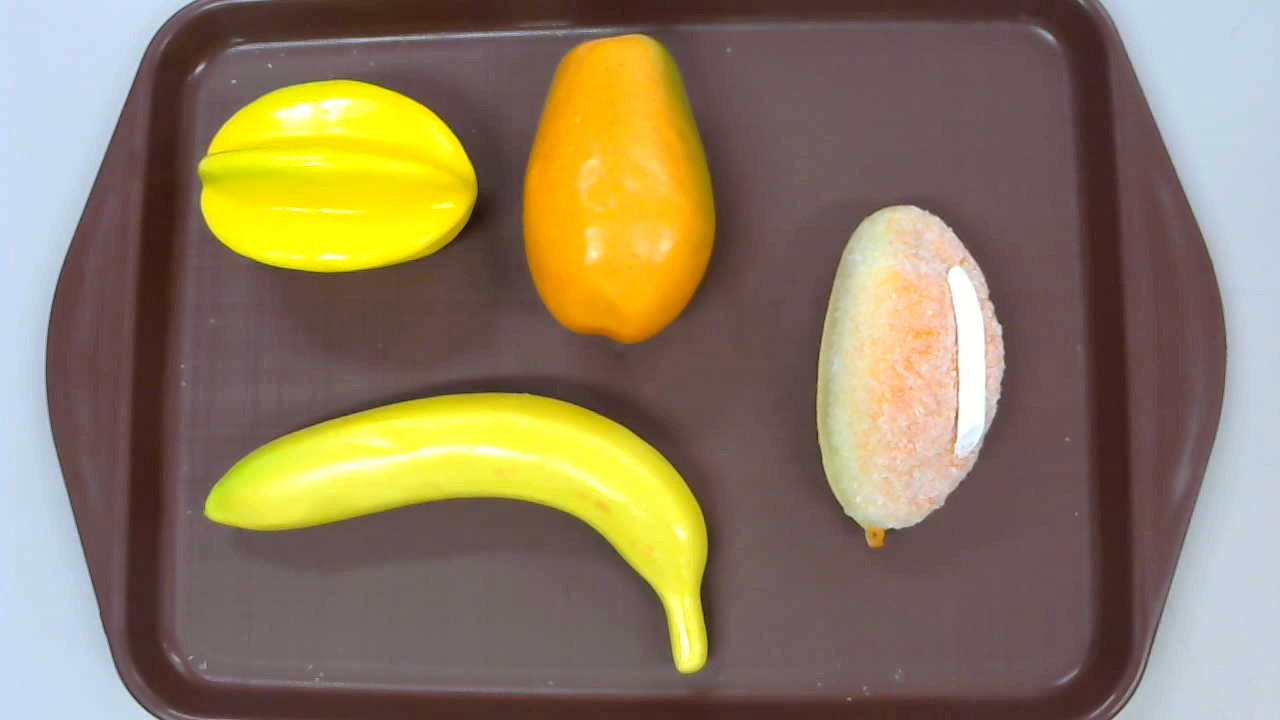banana: (203, 392, 708, 674)
coconut: (817, 203, 1003, 548)
papya: (522, 34, 716, 343)
star fruit: (197, 79, 477, 274)
